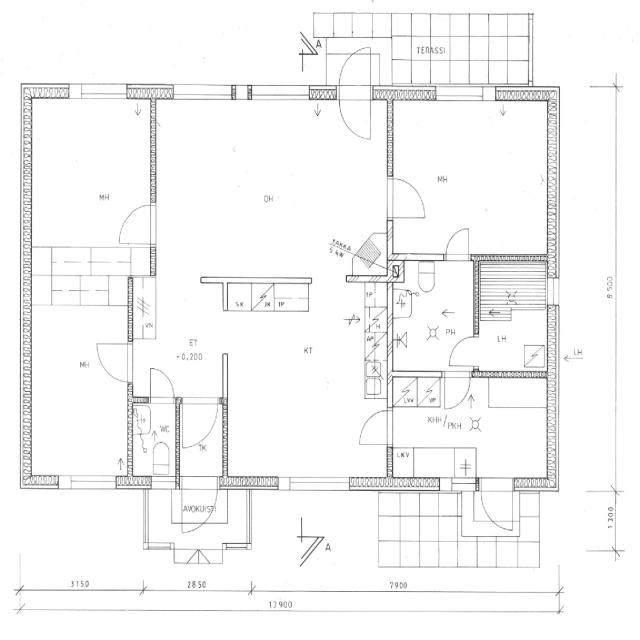door: (335, 45, 376, 145), (443, 332, 478, 412), (476, 476, 518, 534), (178, 395, 219, 452), (114, 199, 157, 250), (386, 172, 429, 223), (179, 488, 219, 536), (94, 339, 135, 384), (355, 404, 392, 449), (440, 222, 476, 263), (440, 369, 473, 413), (445, 332, 481, 370), (146, 364, 178, 406)
window: (246, 82, 313, 108), (171, 82, 237, 104), (434, 84, 493, 108), (54, 473, 119, 494), (284, 474, 352, 494), (72, 83, 130, 104), (545, 275, 562, 310), (147, 476, 180, 493)
zone: (152, 100, 386, 283), (224, 281, 386, 480), (389, 97, 551, 254), (24, 96, 154, 274), (24, 272, 130, 487), (391, 376, 554, 487), (390, 256, 477, 371), (477, 259, 552, 376), (130, 400, 179, 478), (583, 492, 614, 553)
